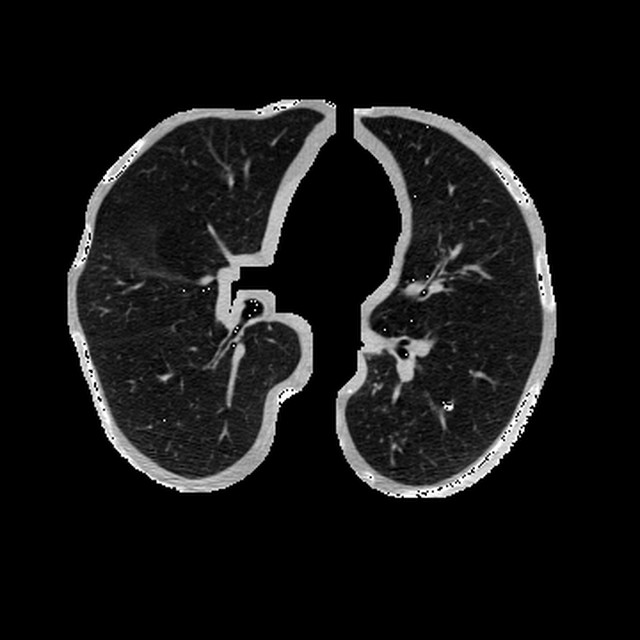PN: (444, 402, 452, 409)
